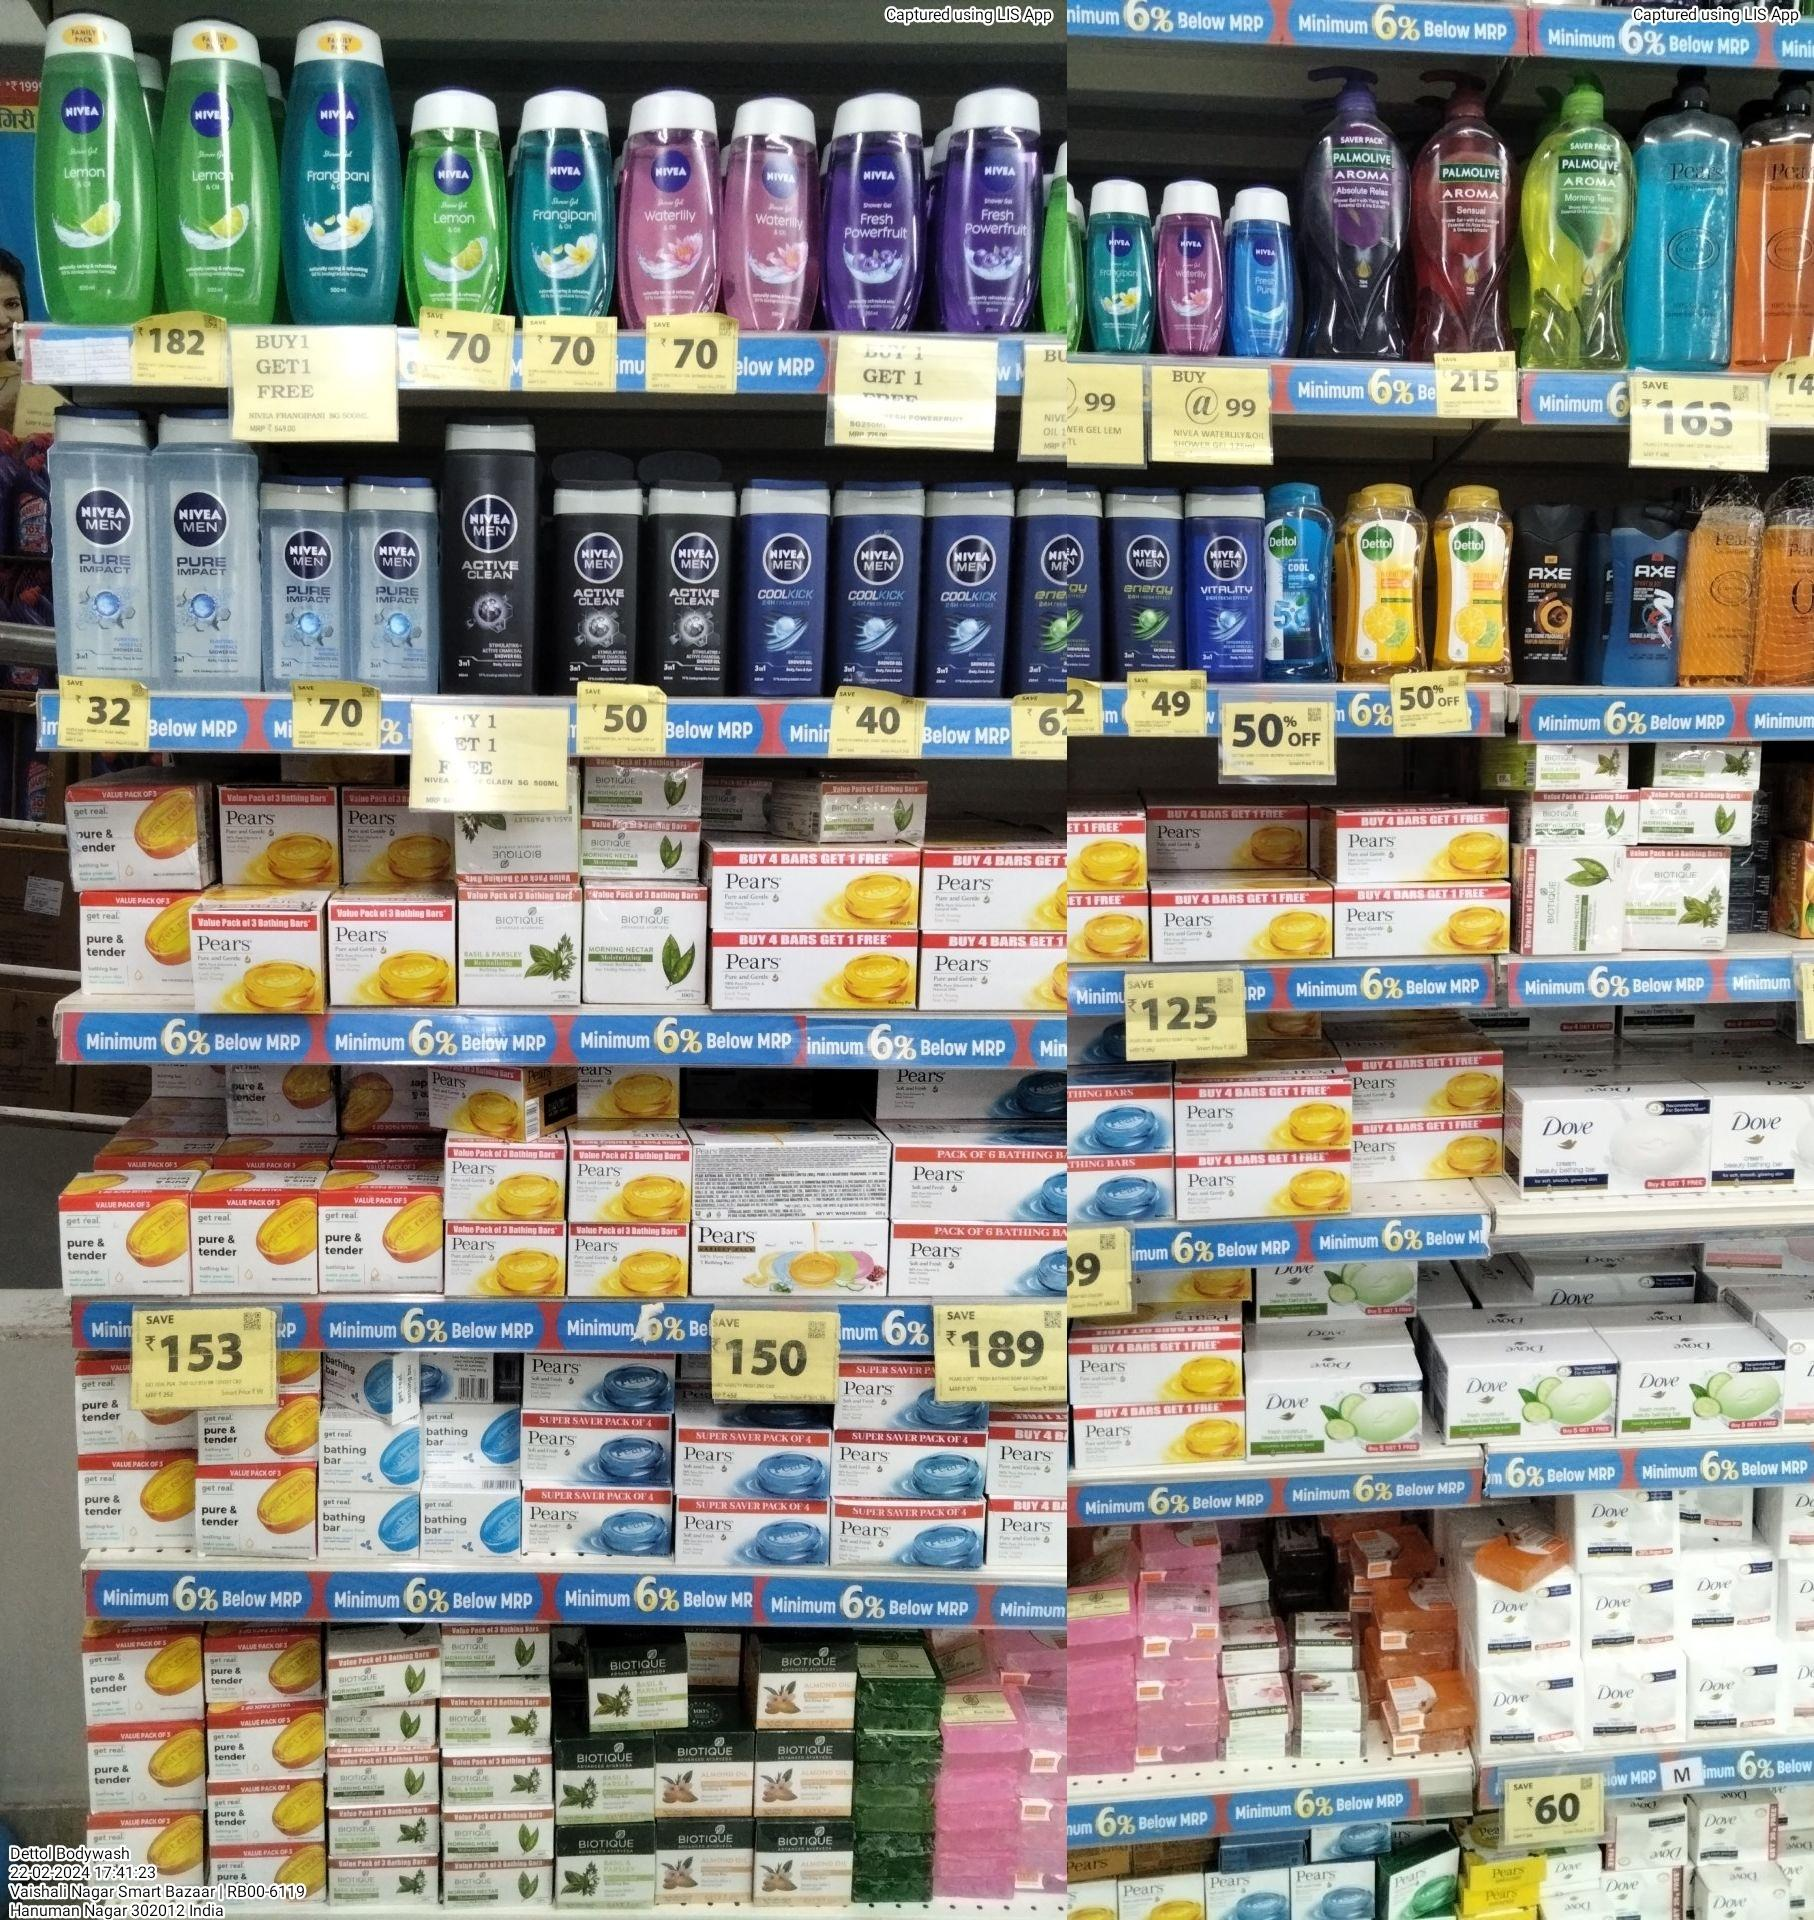Dettol_Bodywash_Cool: (1260, 477, 1337, 677)
Dettol_Bodywash_Refresh: (1345, 483, 1432, 674), (1436, 476, 1512, 674)
Nivea_Shower_Gel_Frangipani_and_Oil_250ML: (290, 20, 389, 310), (520, 94, 624, 327)
Nivea_Shower_Gel_Fresh_Powerfruit_250ML: (946, 89, 1033, 344), (832, 94, 921, 334)
Nivea_Shower_Gel_Lemon_and_Oil_250ML: (160, 10, 273, 317), (41, 12, 150, 315), (411, 85, 511, 319)
Nivea_Shower_Gel_Waterlily_and_Oil_250ML: (624, 85, 716, 319), (725, 94, 806, 333)
